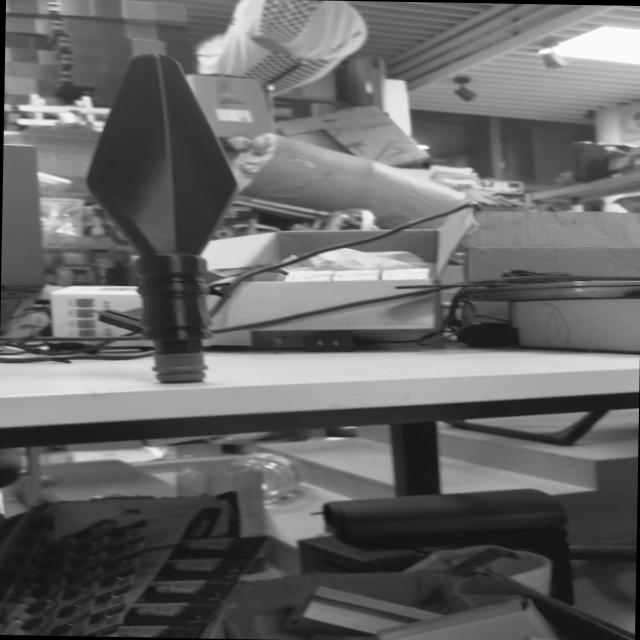base: (147, 349, 218, 387)
